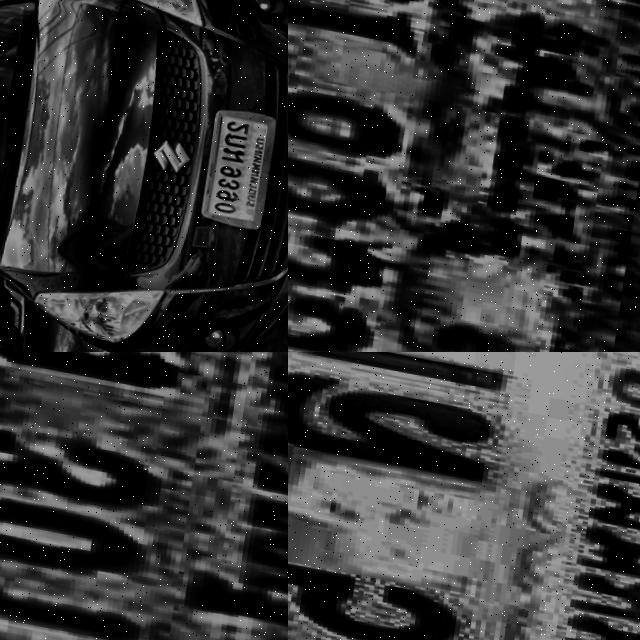license-plate: (288, 0, 640, 352), (288, 352, 640, 640), (0, 352, 288, 640), (190, 98, 285, 230)
